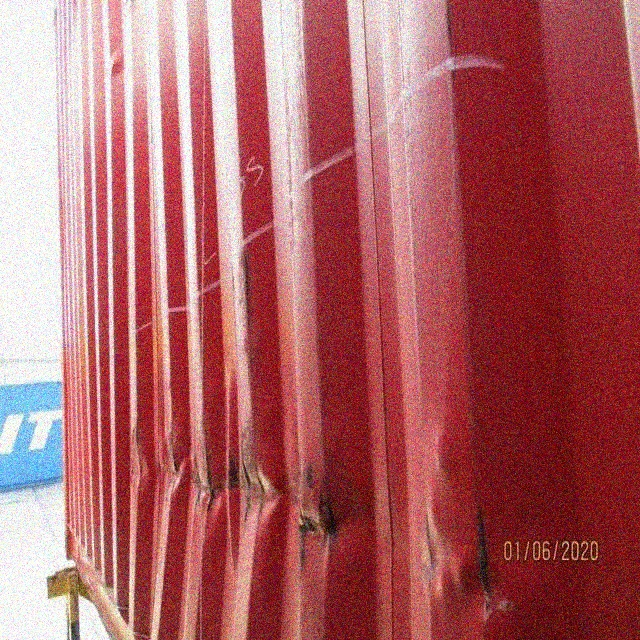Dent: (113, 376, 588, 638)
